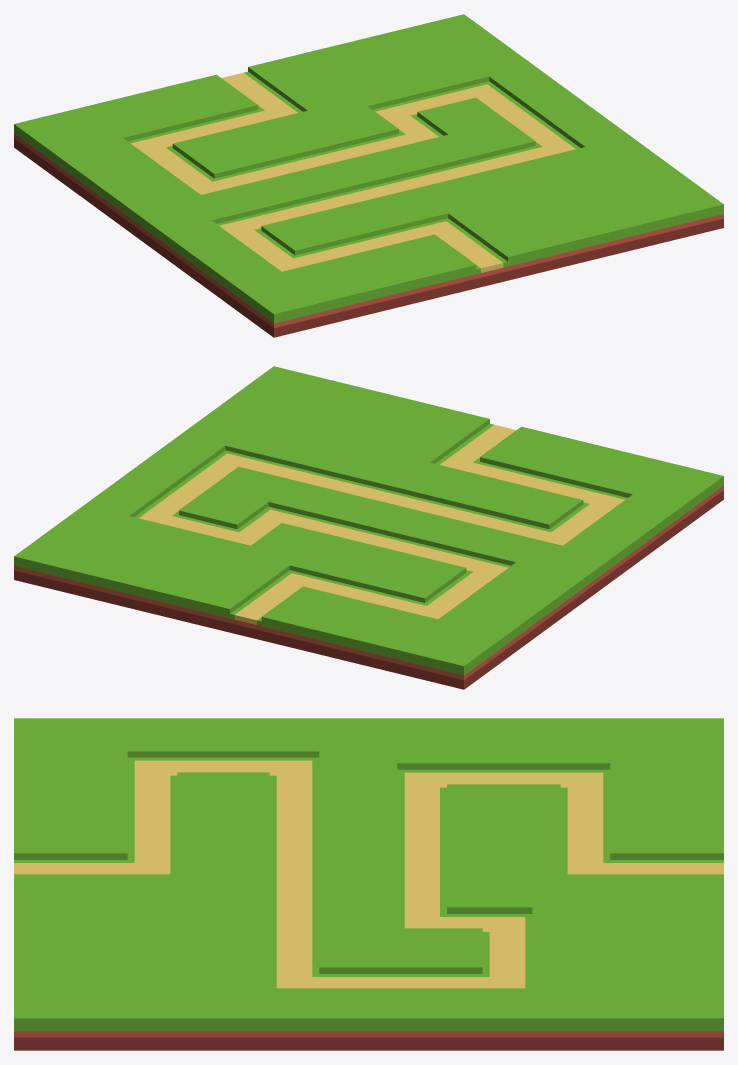
The model's file is Plains.obj.
The picture shows the model from 3 angles, top to bottom: view 1: azimuth 30°, elevation 25°; view 2: azimuth 150°, elevation 25°; view 3: azimuth 270°, elevation 25°; orthographic projection. The views are drawn at different scales.
Bounding box in the file's own units: 10 × 0.5 × 10.
Materials: 1 (1 with a texture image).
